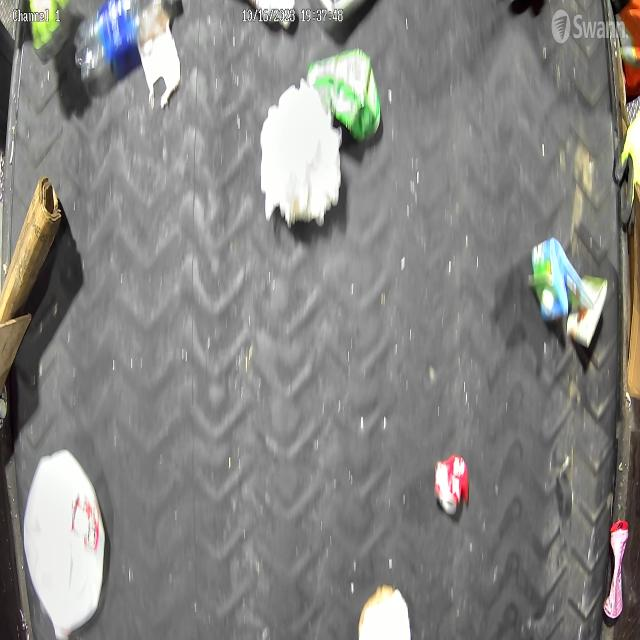can: (306, 46, 384, 145), (433, 451, 470, 518)
milk_jug: (23, 445, 107, 640)
plastic_bottle: (72, 0, 169, 81)
